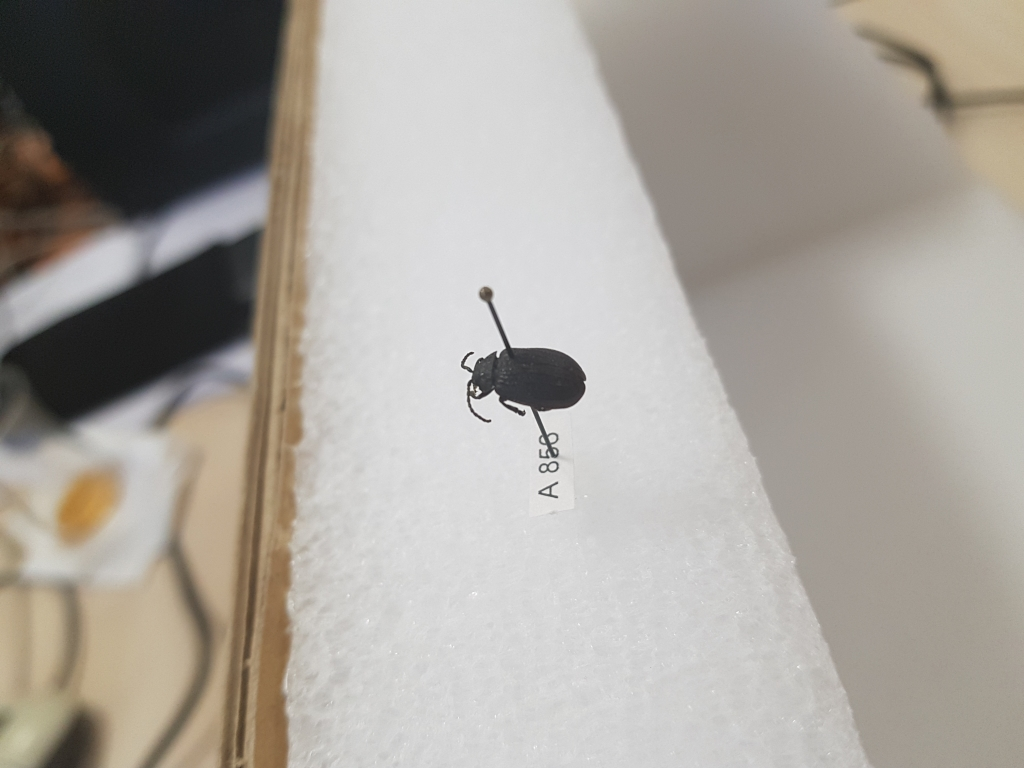Galeruca_tanaceti: (456, 340, 588, 425)
